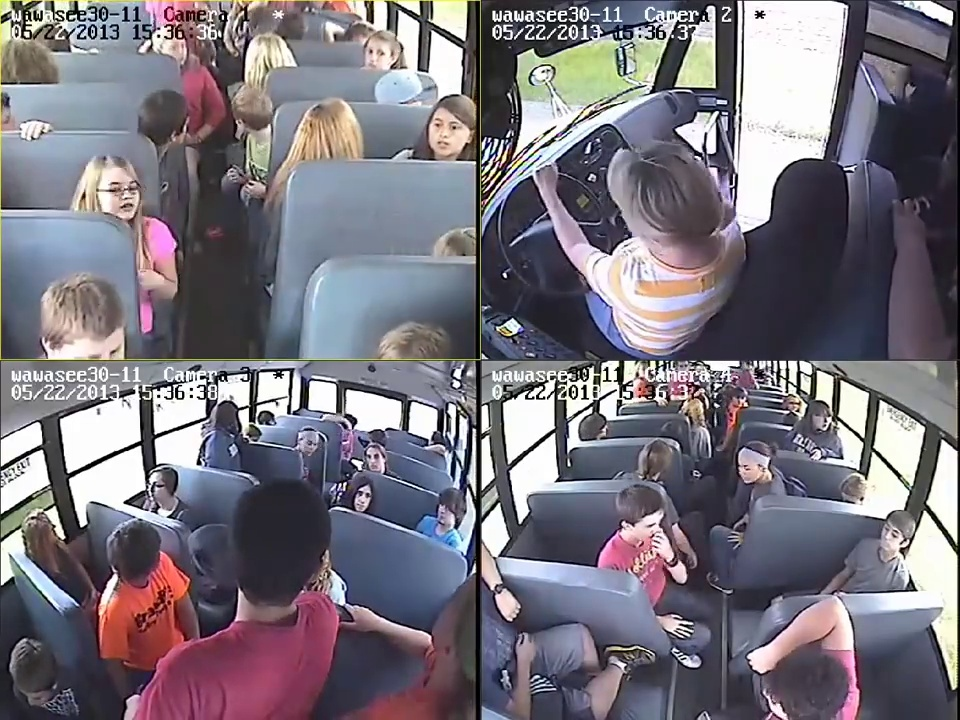face: (425, 114, 471, 156), (102, 171, 139, 218), (635, 504, 664, 544), (20, 680, 48, 710), (734, 456, 763, 484), (145, 478, 172, 506), (363, 43, 389, 69), (880, 524, 900, 553), (296, 431, 320, 455), (436, 504, 462, 525), (813, 409, 833, 434), (352, 488, 371, 513), (365, 448, 380, 472), (787, 396, 799, 412)
